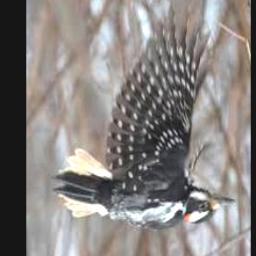Woodpecker: (53, 10, 235, 232)
